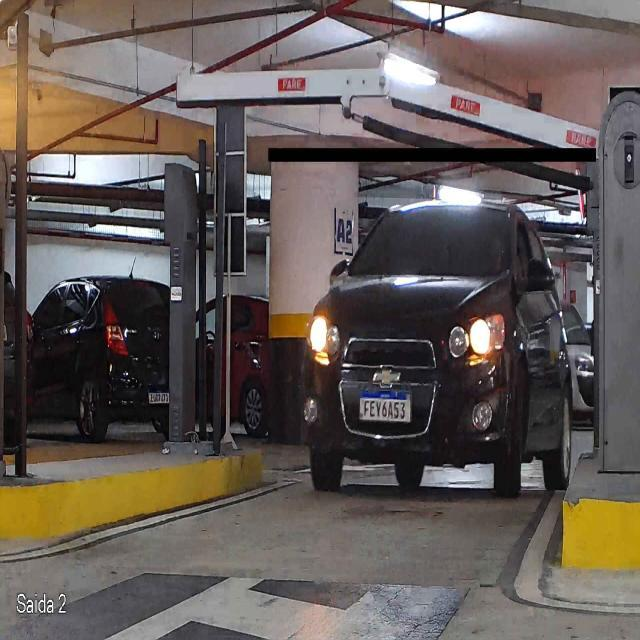mercosul_plate: (358, 389, 414, 424)
